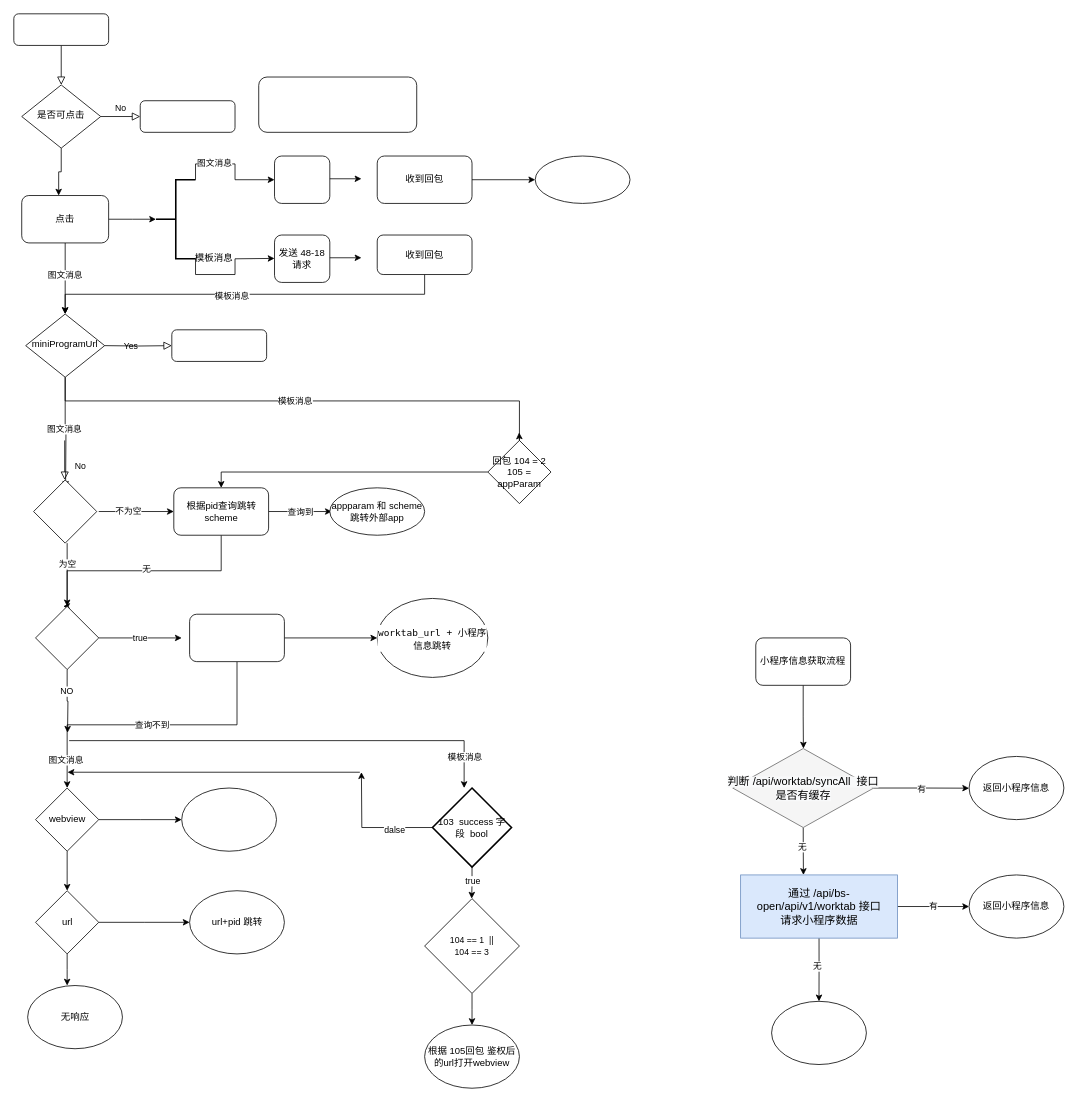
Some shapes in this 1078 by 1102 pixel diagram are drawn without their labels. Here are the shapes that lost their labels. From the top down, the centre of each, then its label:
At pixel 61 29: "图文消息/模板消息".
At pixel 187 116: "结束".
At pixel 337 104: "是否可点击判断依据： appparam， webview，url，miniprogramurl 任意一个非空".
At pixel 302 179: "发送 48-17 请求".
At pixel 582 179: "忽略".
At pixel 219 345: "跳转rn小程序".
At pixel 65 511: "appParam".
At pixel 67 638: "worktabEnable".
At pixel 236 637: "worktabId 查找小程序".
At pixel 228 819: "webview + pid 跳转".
At pixel 818 1033: "返回查询不到".
